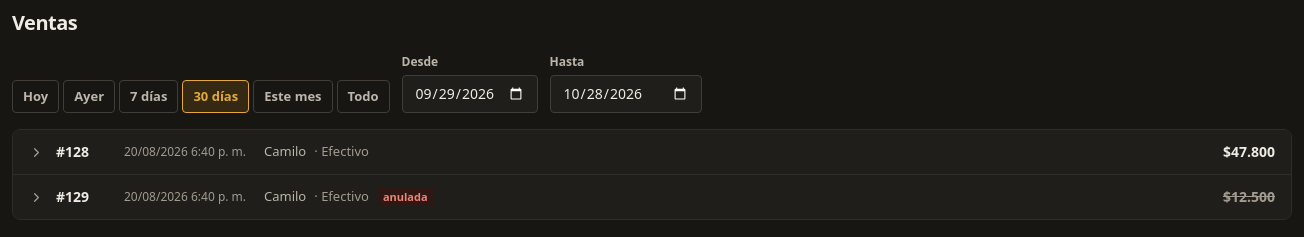
Scenario: el detalle › empieza cerrado y se abre al tocarlo
The width and height of the screenshot is (1304, 237).
(page scrolled)
expect the text "#128" is shown: met, box [56, 142, 89, 161]
expect the text "PÓKER" is not shown: met
Click the button "#128": (185, 152) [13, 130, 1291, 174]
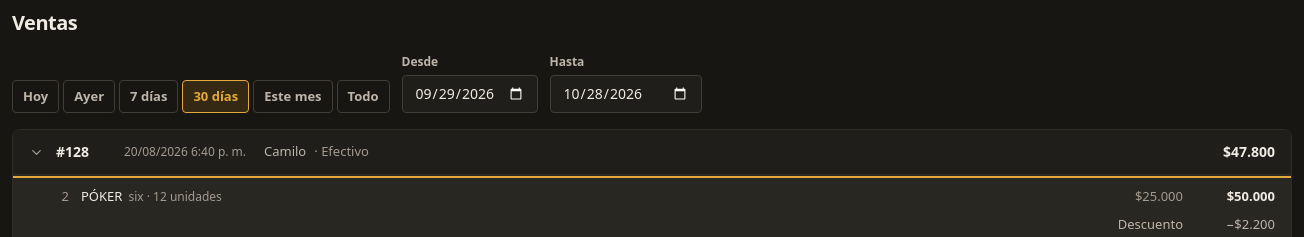
expect the text "PÓKER" is shown: met, box [81, 187, 122, 205]
